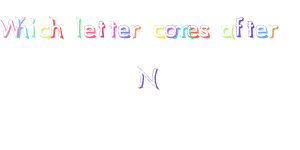N: (130, 62, 174, 95)
W: (1, 16, 21, 41)
a: (220, 20, 236, 41)
c: (151, 18, 166, 43), (37, 18, 51, 42)
e: (255, 21, 269, 43), (84, 19, 96, 42), (188, 22, 200, 42), (118, 23, 132, 40)
f: (235, 14, 245, 39)
h: (51, 16, 65, 40), (16, 15, 28, 40)
i: (27, 16, 40, 40)
l: (72, 16, 82, 40)
m: (175, 20, 192, 43)
o: (165, 22, 179, 41)
r: (129, 16, 143, 41), (267, 21, 281, 42)
s: (198, 21, 214, 43)
t: (96, 18, 107, 42), (244, 20, 257, 40), (108, 17, 117, 39)
